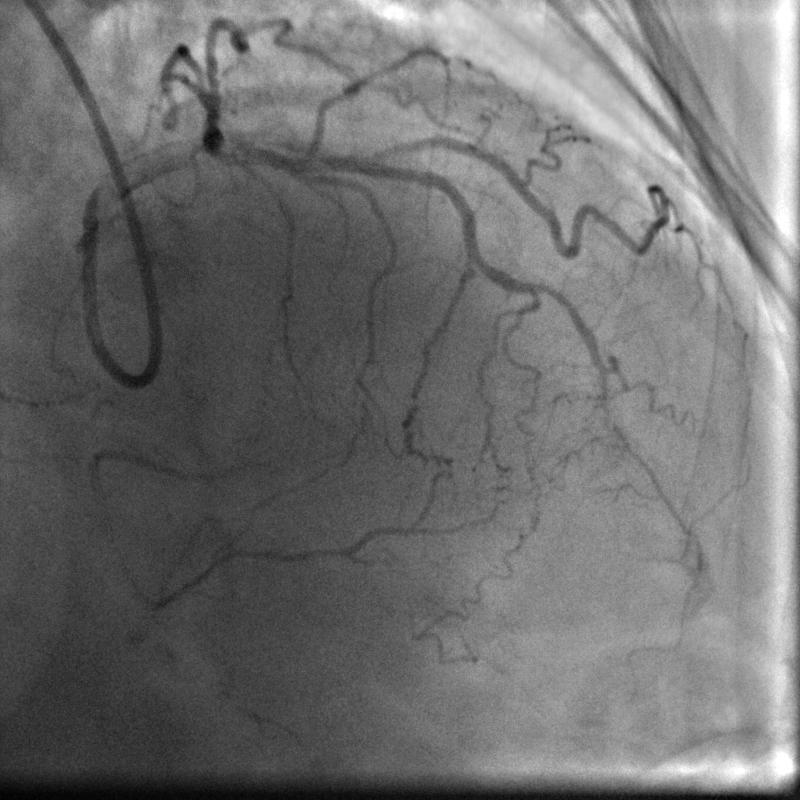Stenosis: (181, 123, 204, 167)
